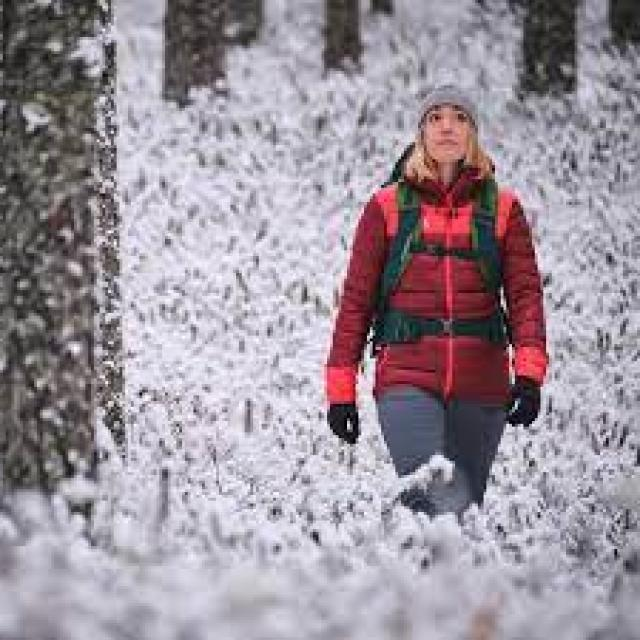Jacket: (321, 176, 558, 454)
